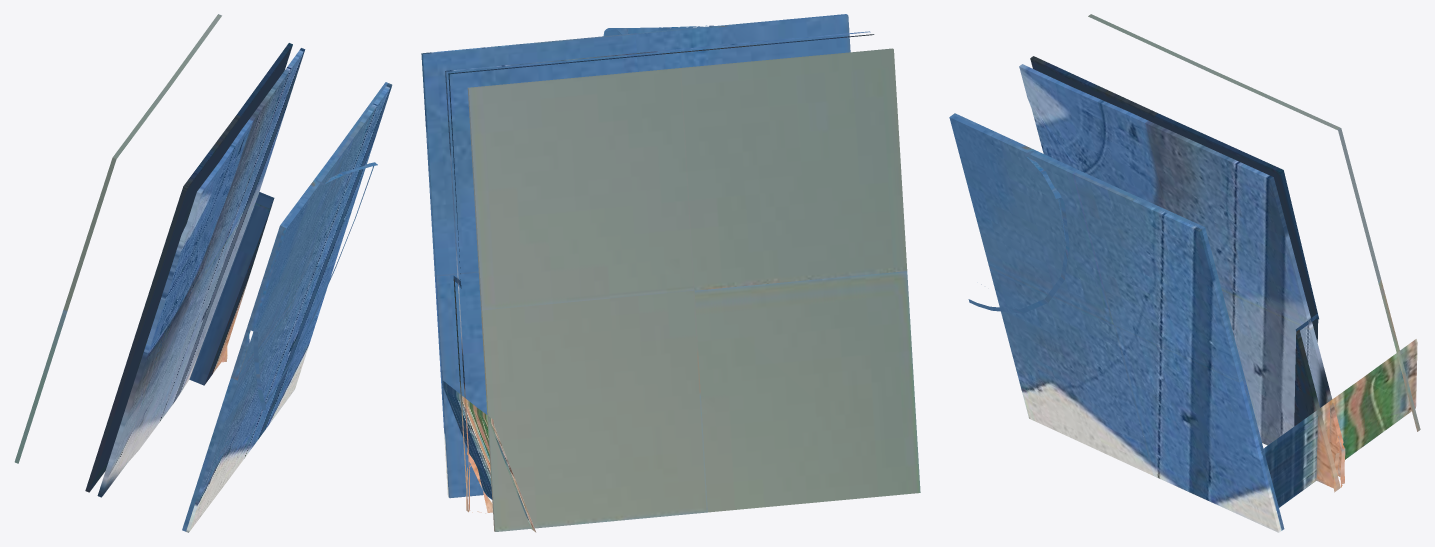
Rendered from congresso_tile_145.glb.
3 views of the same model, side by side, from view 1: azimuth 30°, elevation 25°; view 2: azimuth 150°, elevation 25°; view 3: azimuth 270°, elevation 25° (orthographic). The views are drawn at different scales.
Bounding box in the file's own units: 47.03 × 41.95 × 46.94.
Materials: 2 (2 with a texture image).
